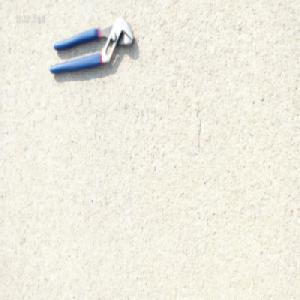Pliers: (49, 16, 135, 75)
